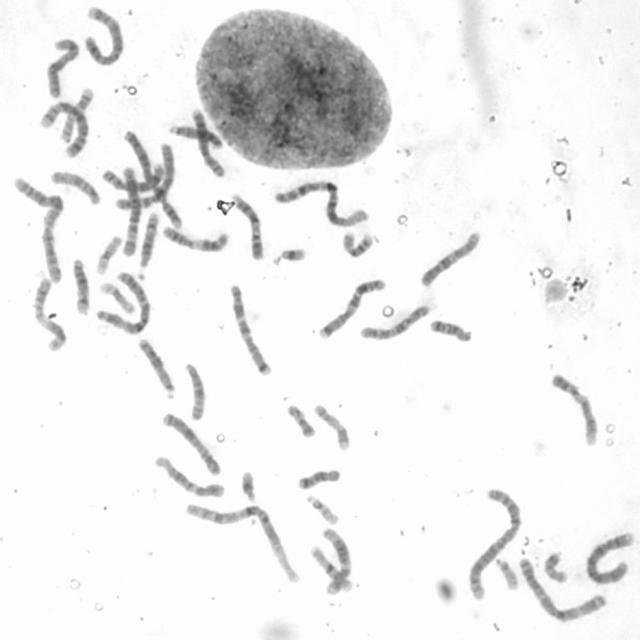A1: (182, 497, 302, 585), (270, 176, 370, 228)
A2: (464, 484, 522, 602), (10, 172, 65, 284)
A3: (514, 553, 608, 624), (93, 267, 151, 336)
B4: (121, 128, 185, 231), (582, 529, 636, 586)
B5: (37, 98, 91, 160), (80, 2, 126, 67)
C10: (416, 228, 483, 288), (356, 299, 435, 342)
C11: (31, 274, 68, 354), (160, 222, 230, 253)
C12: (152, 452, 226, 499), (318, 524, 353, 596)
C6: (113, 142, 175, 212), (118, 162, 141, 257)
C7: (226, 280, 274, 378), (316, 276, 386, 340)
C8: (188, 106, 227, 179), (101, 164, 166, 196)
C9: (548, 370, 600, 447), (228, 190, 266, 261)
D13: (135, 334, 177, 400), (165, 120, 225, 150)
D14: (135, 209, 160, 275), (68, 254, 92, 317)
D15: (49, 167, 102, 206), (181, 359, 208, 422)
E16: (309, 545, 354, 593), (339, 228, 376, 259)
E17: (58, 85, 94, 144), (312, 400, 351, 452)
E18: (428, 315, 473, 344), (294, 466, 341, 491)
F19: (97, 279, 137, 316), (92, 232, 124, 275)
F20: (284, 401, 316, 439), (544, 548, 570, 584)
G21: (270, 245, 308, 268), (238, 467, 258, 503)
G22: (302, 492, 341, 527), (492, 554, 519, 592)
X: (159, 410, 223, 478), (44, 34, 81, 99)
